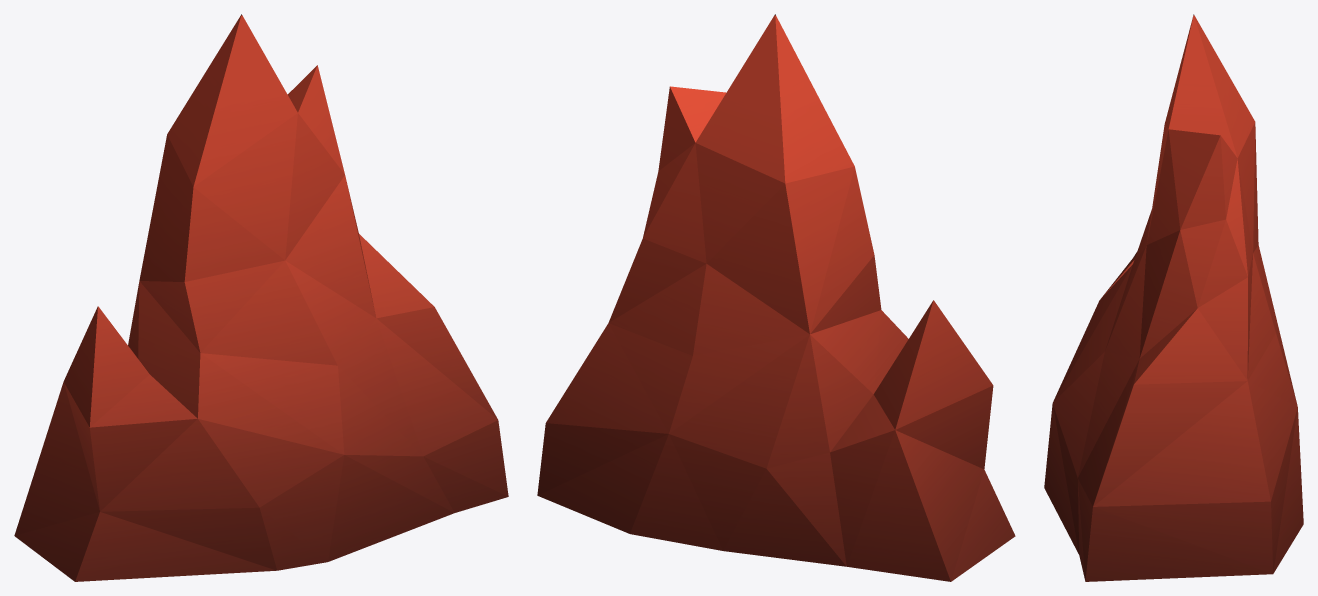
Rendered from Spiky_Rock_1.fbx.
The picture shows the model from 3 angles, left to right: view 1: azimuth 30°, elevation 25°; view 2: azimuth 150°, elevation 25°; view 3: azimuth 270°, elevation 25°; orthographic projection. The views are drawn at different scales.
Parts seen in each view (by area): view 1: Spiky_Rock_1; view 2: Spiky_Rock_1; view 3: Spiky_Rock_1.
Boxes of the visible parts, x1,y1,x2,y2 form: Spiky_Rock_1: [14, 14, 508, 581]; Spiky_Rock_1: [537, 14, 1015, 581]; Spiky_Rock_1: [1044, 14, 1303, 581].
Bounding box in the file's own units: 398 × 454 × 227.
1 material, 1 textured.
